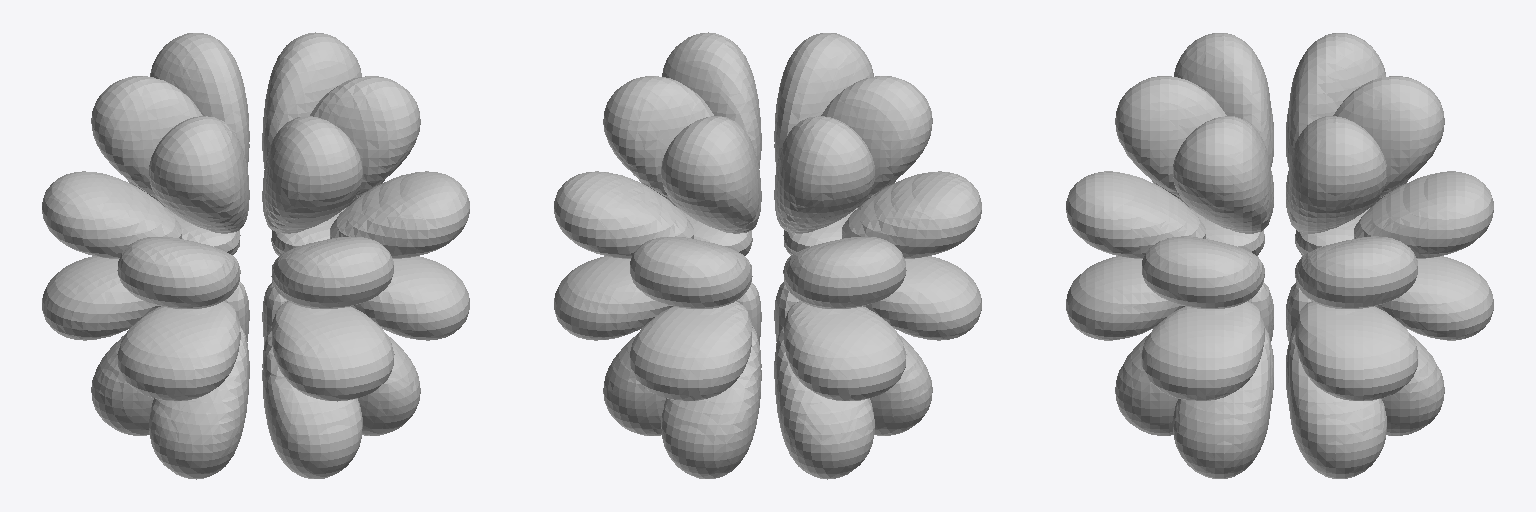
File: orb_n=7_ l=6 _m=-3.obj
3 renders of one model, left to right at view 1: azimuth 30°, elevation 25°; view 2: azimuth 150°, elevation 25°; view 3: azimuth 270°, elevation 25°, orthographic.
Visible parts, largest first — view 1: orb_n=7__l=6__m=-3; view 2: orb_n=7__l=6__m=-3; view 3: orb_n=7__l=6__m=-3.
Part boxes in pixels (bbox=[...]): orb_n=7__l=6__m=-3: bbox=[42, 32, 469, 479]; orb_n=7__l=6__m=-3: bbox=[554, 32, 981, 479]; orb_n=7__l=6__m=-3: bbox=[1066, 33, 1493, 478].
Bounding box in the file's own units: 140 × 140 × 154.